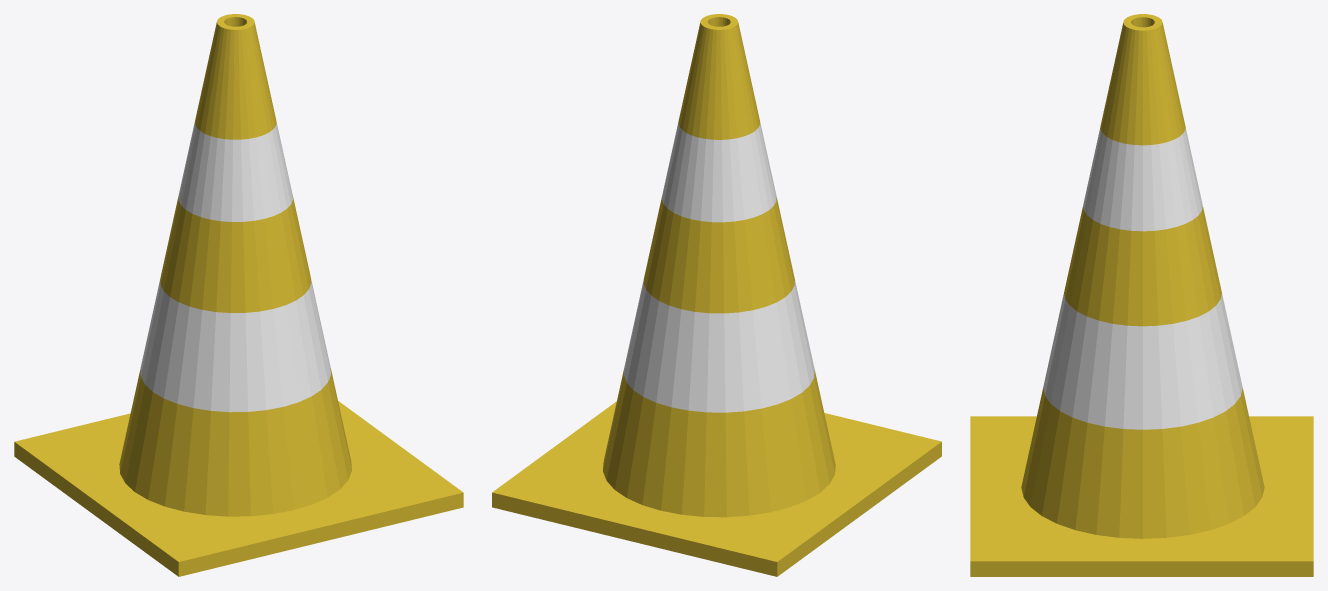
The model's file is cone de trafic.fbx.
3 views of the same model, side by side, from view 1: azimuth 30°, elevation 25°; view 2: azimuth 150°, elevation 25°; view 3: azimuth 270°, elevation 25° (orthographic). The views are drawn at different scales.
Parts seen in each view (by area): view 1: Cube.003; view 2: Cube.003; view 3: Cube.003.
Part boxes in pixels (x1,y1,x2,y2): Cube.003: [14, 14, 463, 576]; Cube.003: [492, 14, 941, 576]; Cube.003: [970, 14, 1313, 576].
Bounding box in the file's own units: 5.75 × 8.89 × 5.75.
